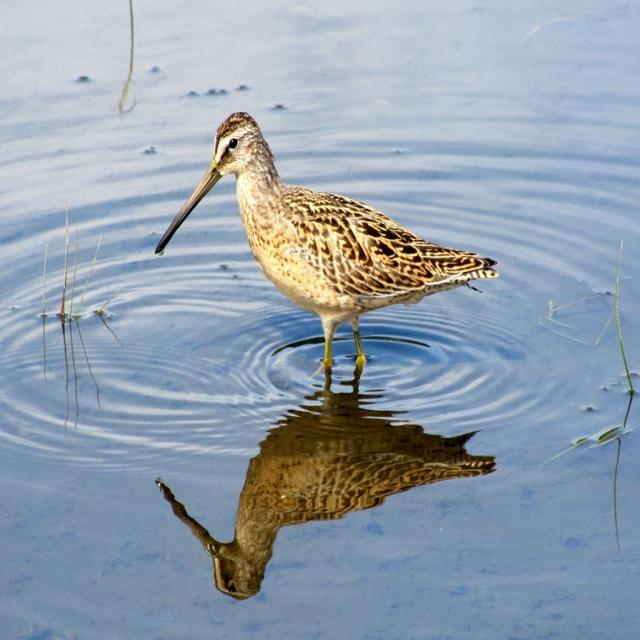bird: (150, 103, 509, 392)
